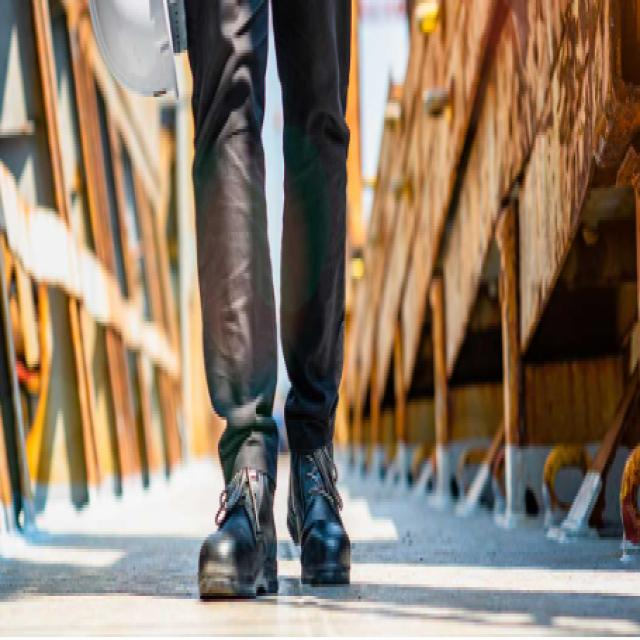boots: (195, 432, 354, 604)
